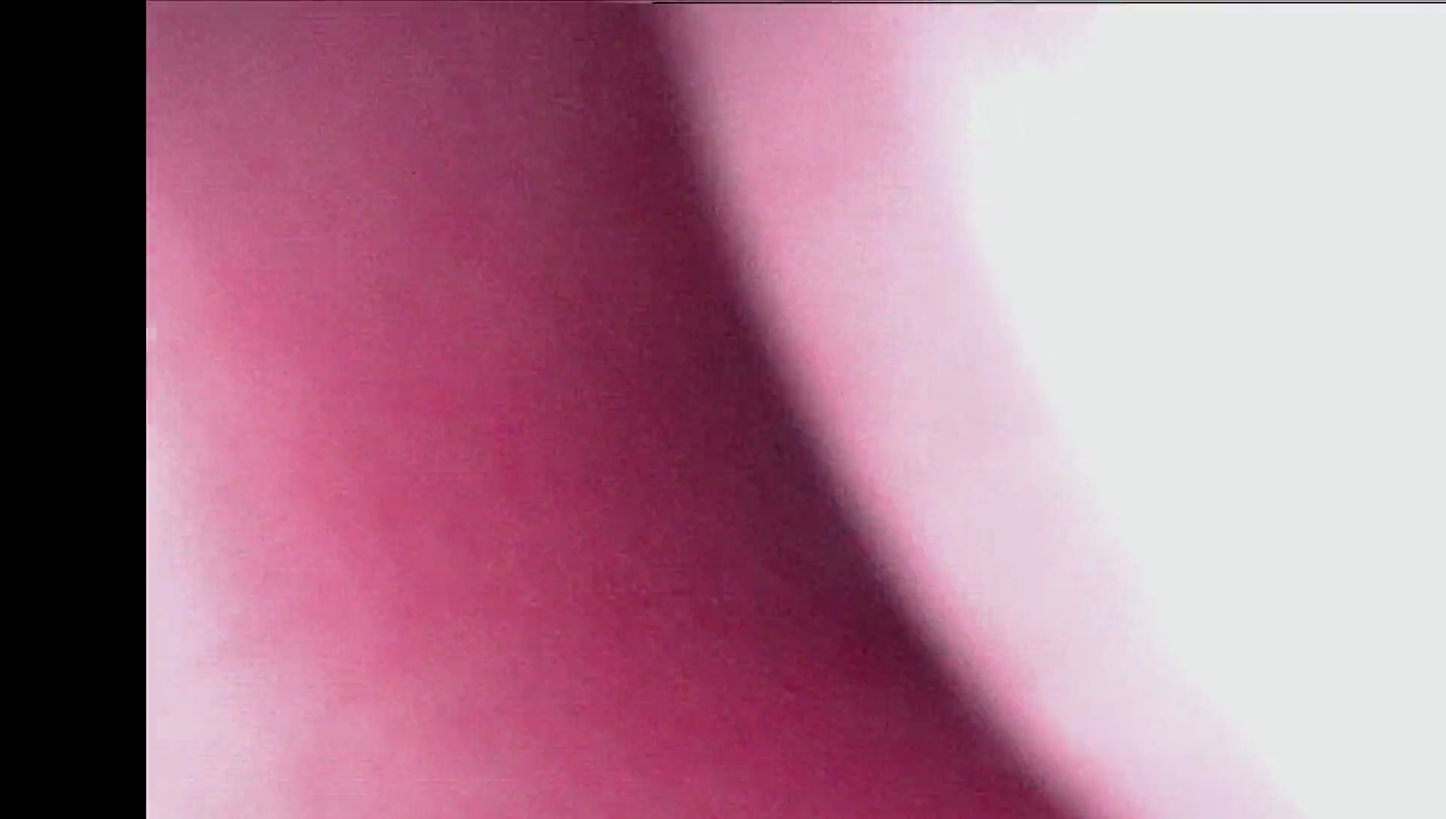close_wall: (824, 10, 1446, 819), (148, 398, 524, 819)
